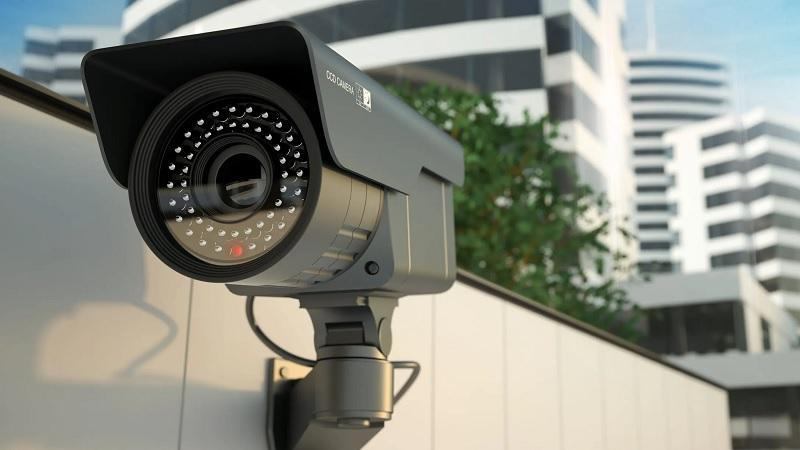camera: (68, 2, 499, 333)
